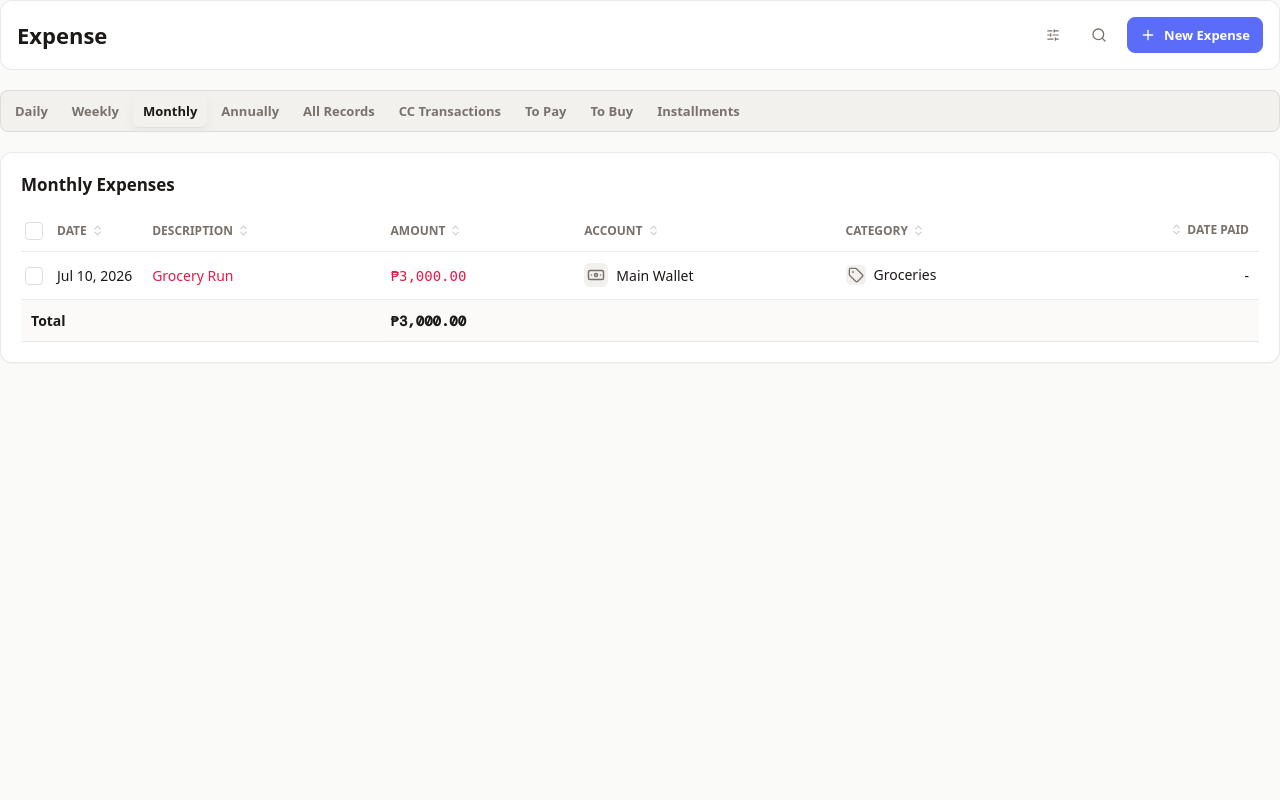
Test: Expense bulk actions › delete opens a confirmation instead of deleting immediately
Click the button named "Select row" at (34, 276), box 25,266 -> 43,284
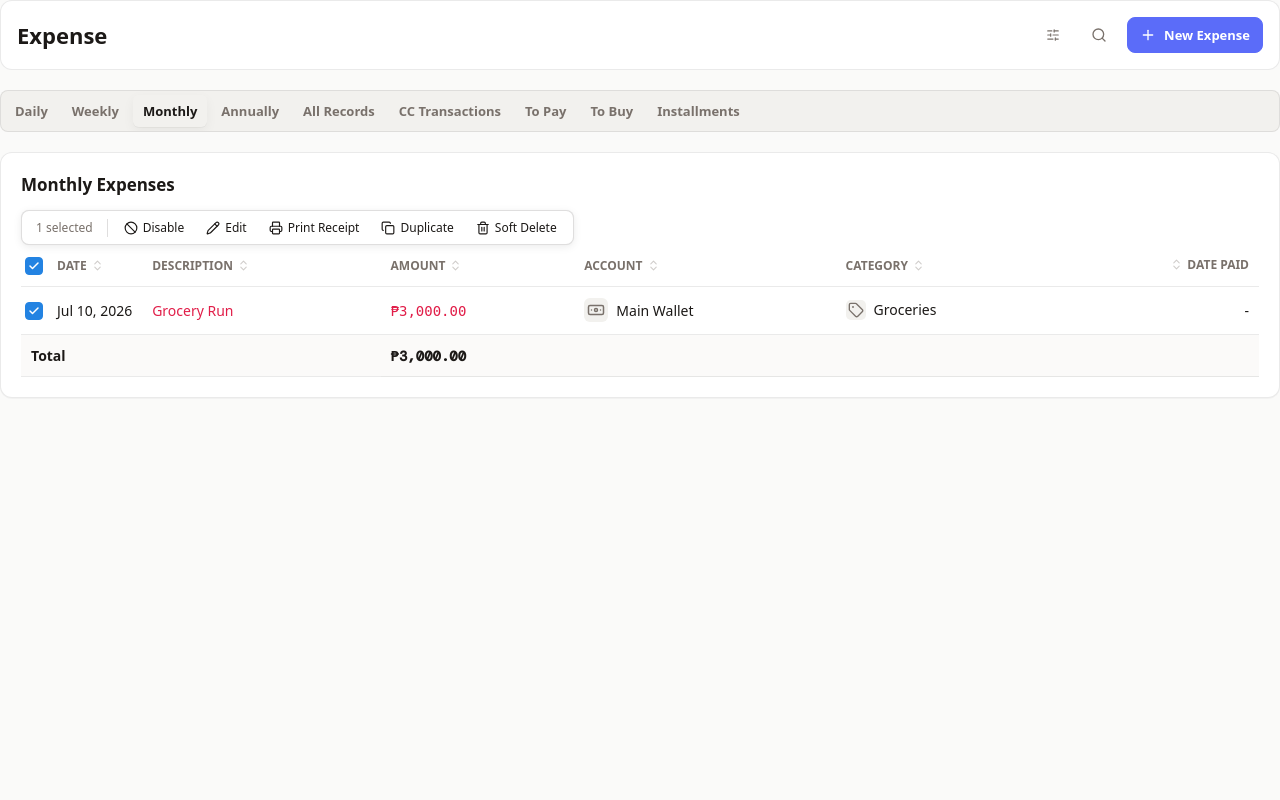
Expected: the text "1 selected" is shown, 36,219 -> 93,236
Click the button "Soft Delete" at (516, 228), box 466,215 -> 567,240
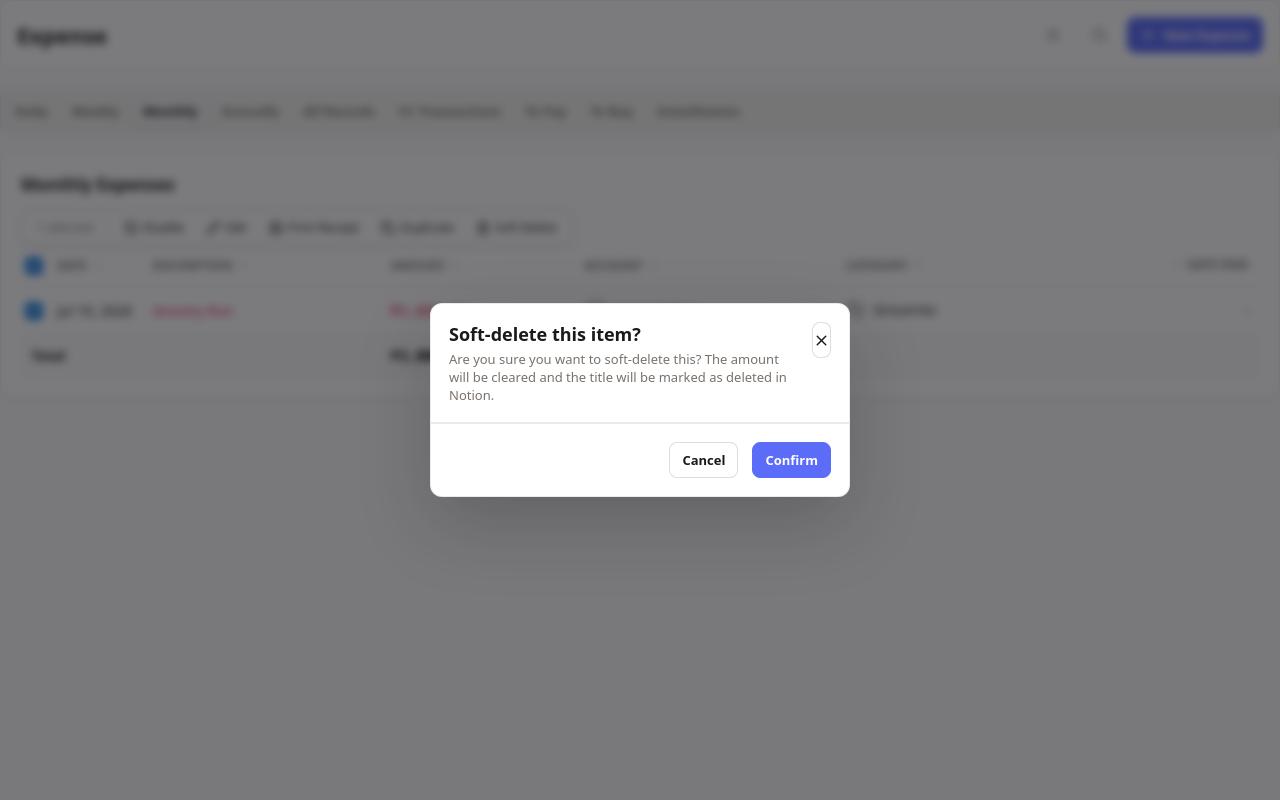
Expected: the dialog is shown, 430,303 -> 850,497
